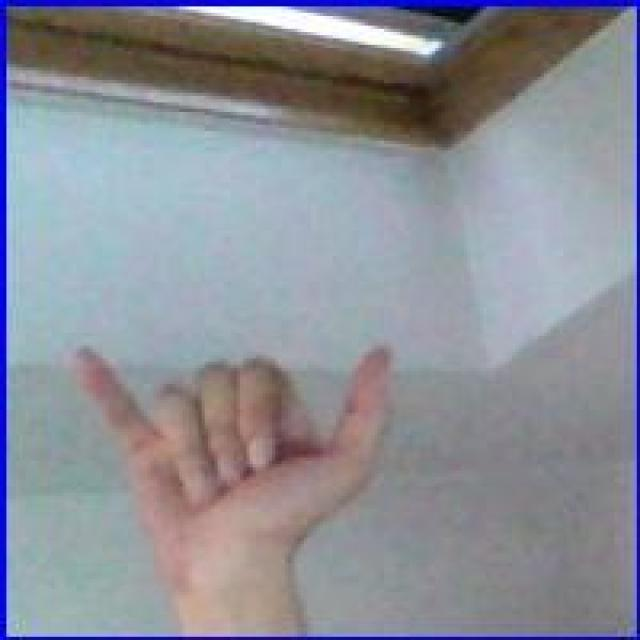Y: (62, 338, 405, 590)
